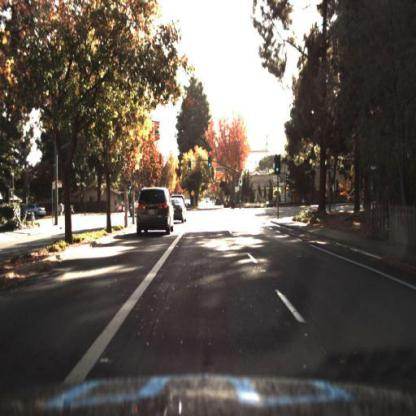car: (135, 186, 173, 241), (171, 198, 187, 227), (24, 204, 49, 220), (174, 200, 185, 229), (126, 200, 139, 224), (349, 189, 366, 205), (172, 193, 186, 201)
trafficLight: (274, 158, 282, 180), (238, 174, 245, 190)
trafficLight-Green: (275, 157, 282, 178), (207, 154, 214, 173), (239, 178, 247, 194), (206, 158, 214, 171), (128, 183, 135, 196), (188, 160, 194, 174)
trafficLight-GreenLeft: (187, 163, 194, 175)
